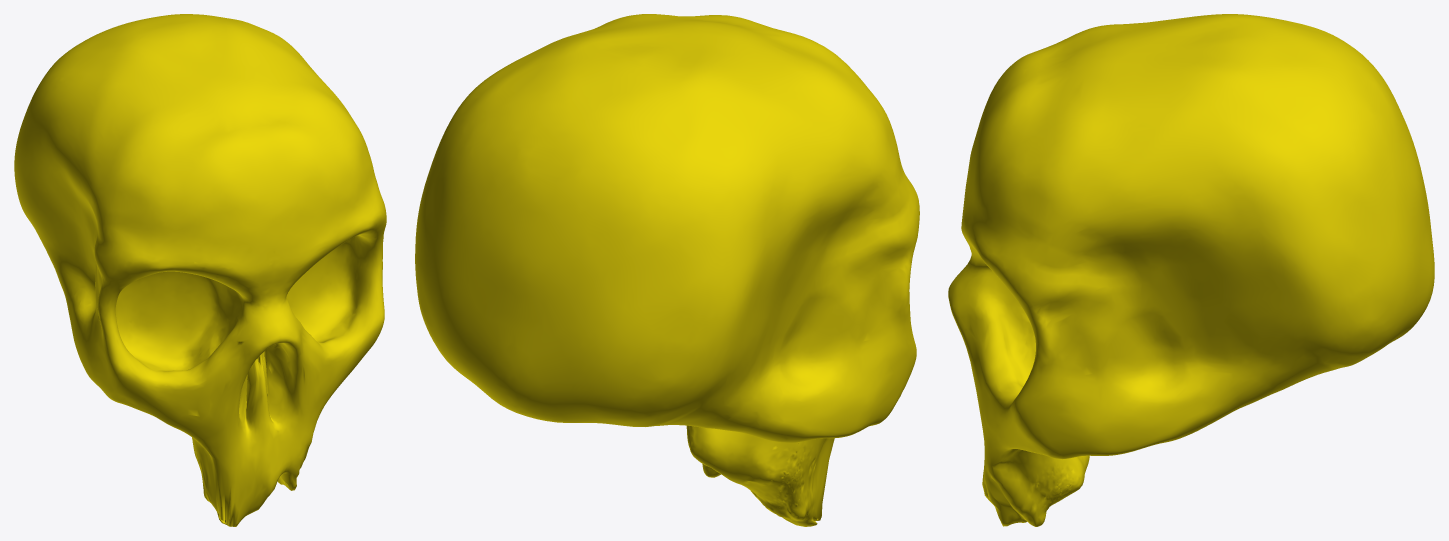
File: zielona_czacha.glb
The picture shows the model from 3 angles, left to right: view 1: azimuth 30°, elevation 25°; view 2: azimuth 150°, elevation 25°; view 3: azimuth 270°, elevation 25°; orthographic projection. The views are drawn at different scales.
Parts seen in each view (by area): view 1: Format1_PM3D_Sphere3D_2_3; view 2: Format1_PM3D_Sphere3D_2_3; view 3: Format1_PM3D_Sphere3D_2_3.
Boxes of the visible parts, x1,y1,x2,y2 form: Format1_PM3D_Sphere3D_2_3: [14, 14, 386, 526]; Format1_PM3D_Sphere3D_2_3: [415, 14, 919, 526]; Format1_PM3D_Sphere3D_2_3: [948, 14, 1434, 526].
Size of the model in its own units: 1.83 by 2.59 by 2.26.
